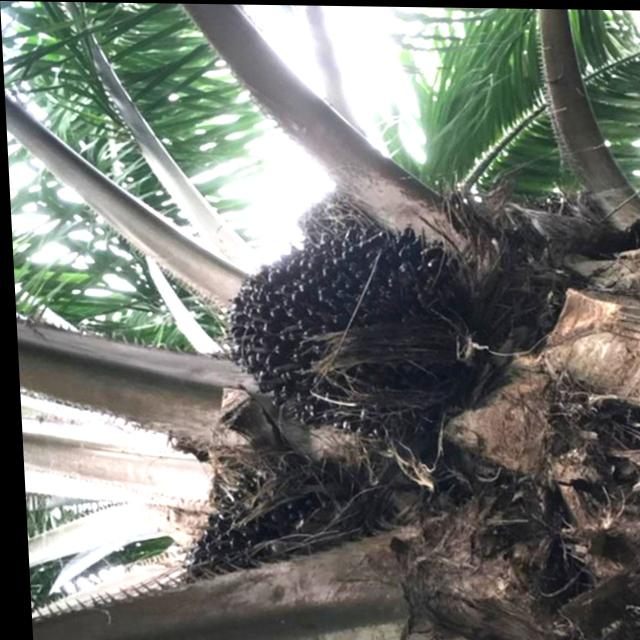almost: (212, 217, 479, 438), (169, 457, 360, 593)
